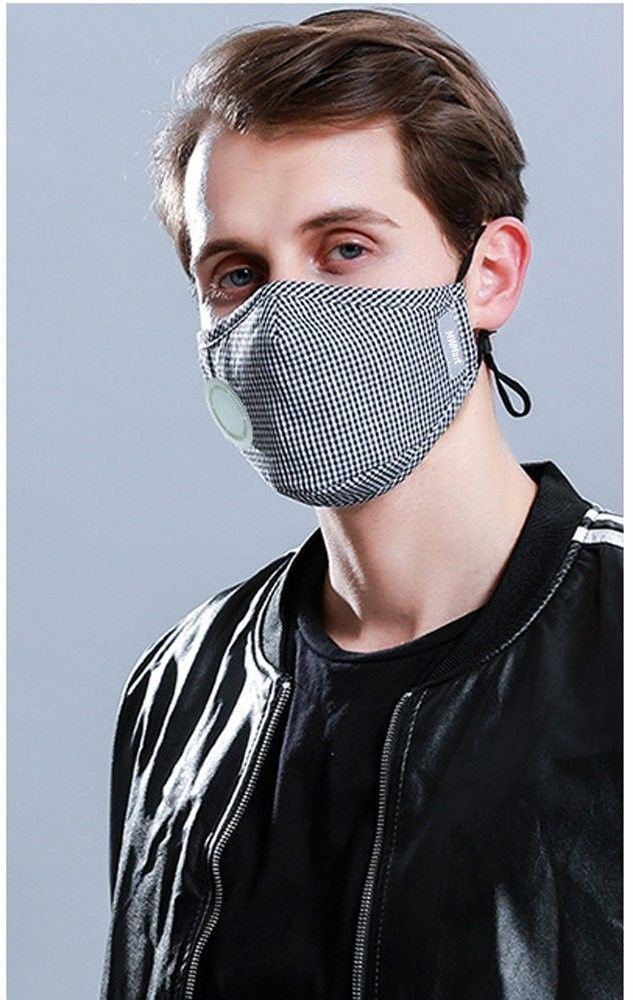mask: (144, 18, 568, 528)
